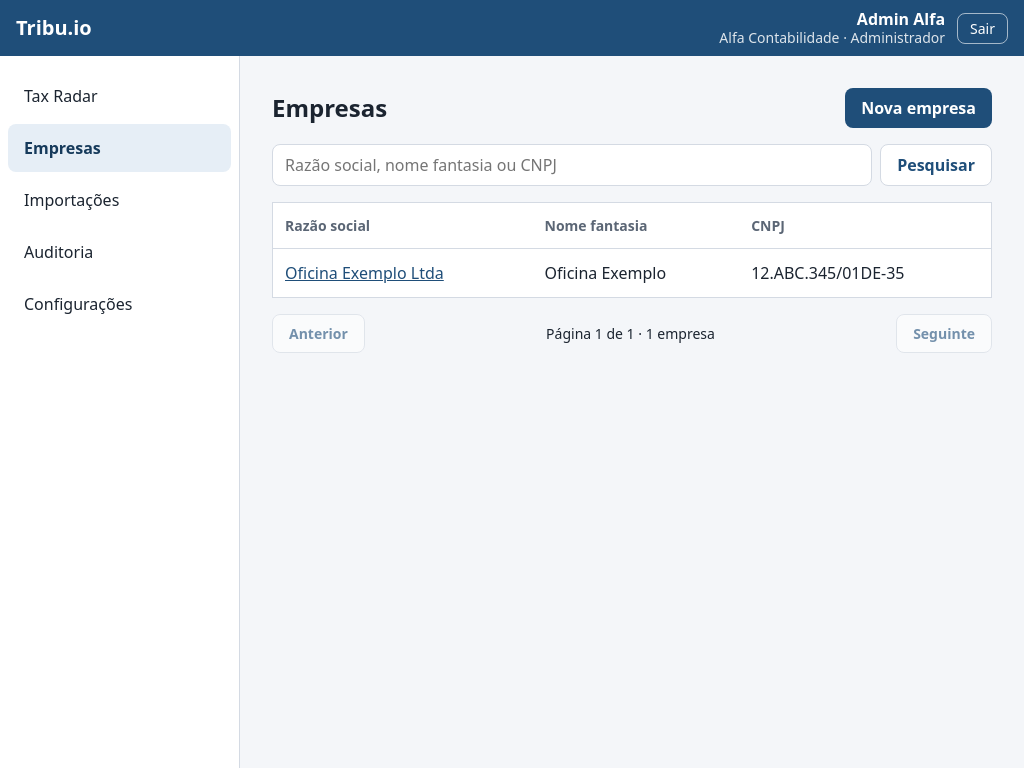
Scenario: empresas › lista as empresas e pesquisa pelo termo escrito
The width and height of the screenshot is (1024, 768).
Expected: the text "12.ABC.345/01DE-35" is shown, [739,249,992,298]
Expected: the text "Página 1 de 1 · 1 empresa" is shown, [546,323,715,344]
Type "padaria" into the search field named "Pesquisar empresas".
click(572, 165); type("padaria")  # box [272,144,872,186]
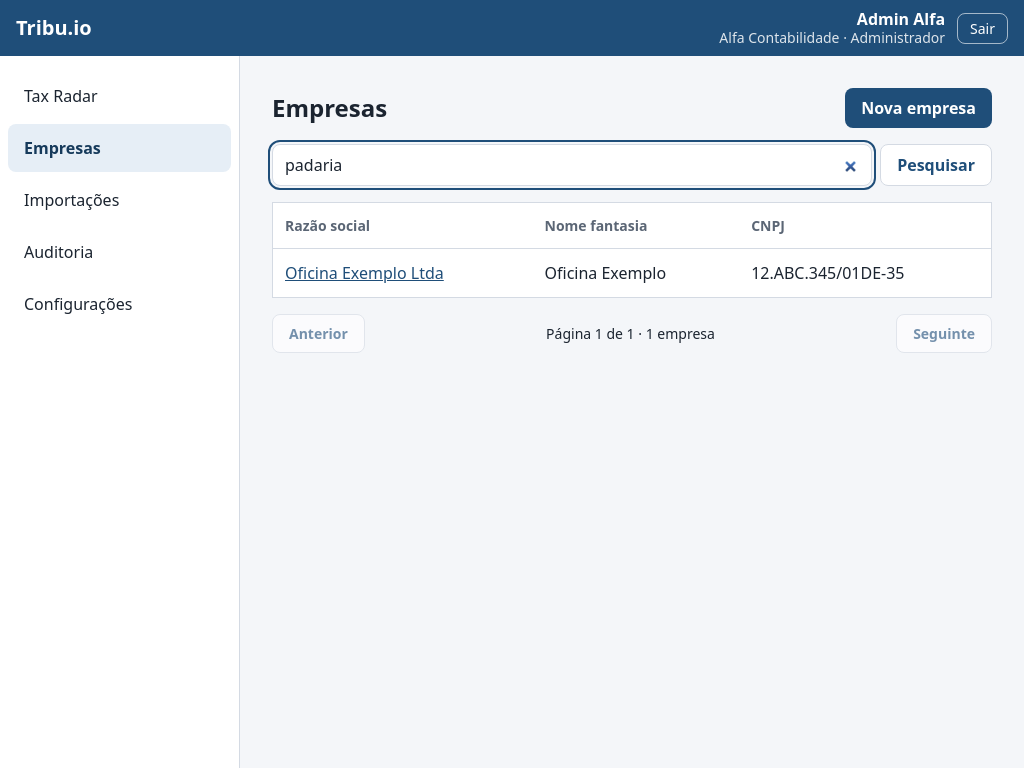
Click the button "Pesquisar".
click(936, 165)  # box [880,144,992,186]
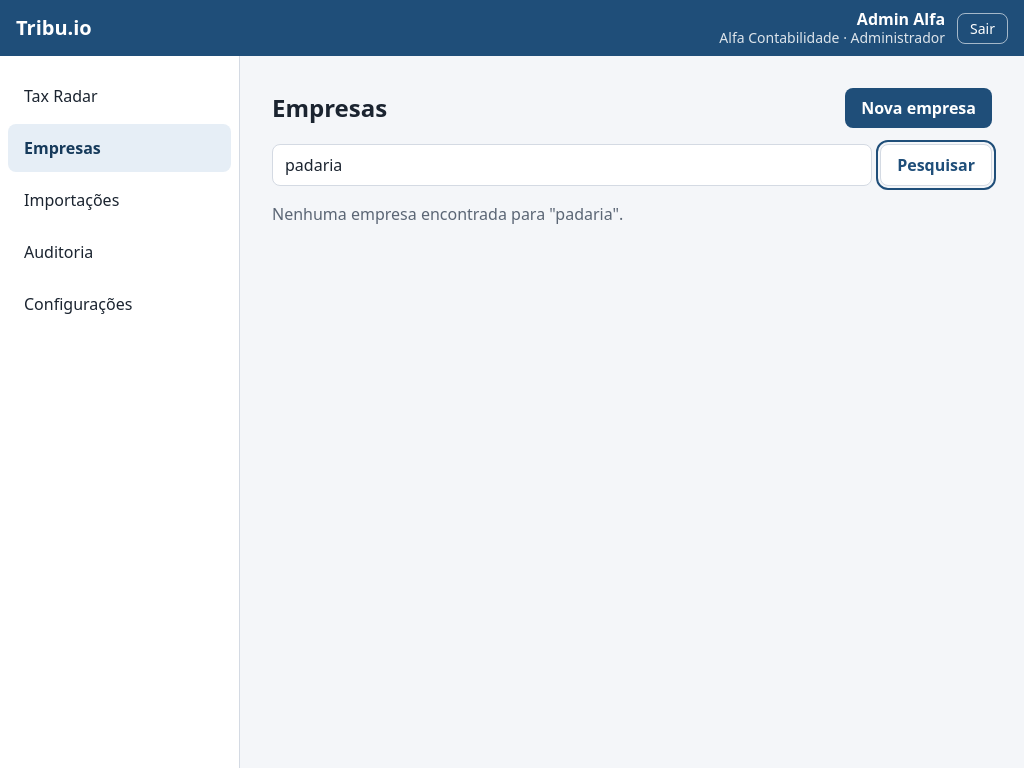
Now the text "Nenhuma empresa encontrada para \"padaria\"." is shown, box [272,203,623,225]
